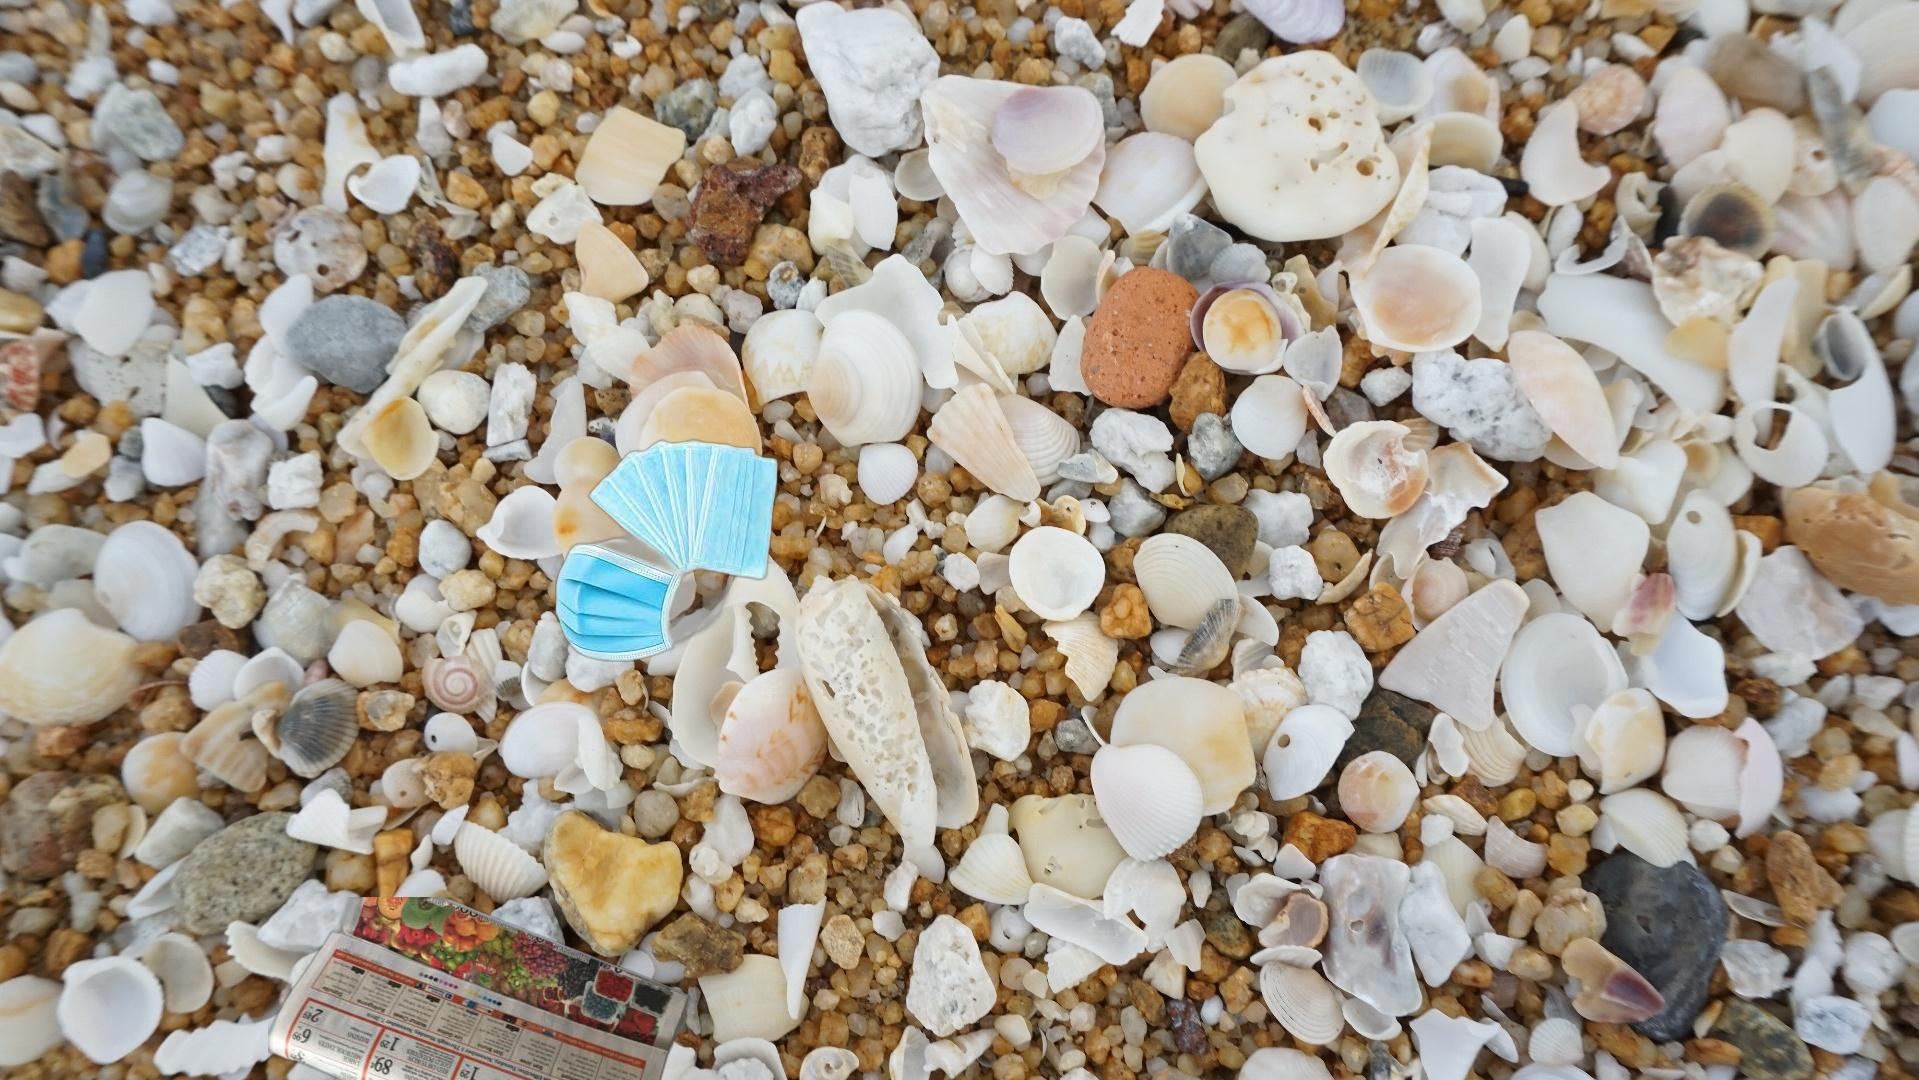paper: (268, 897, 695, 1080)
trash: (554, 438, 779, 662)
